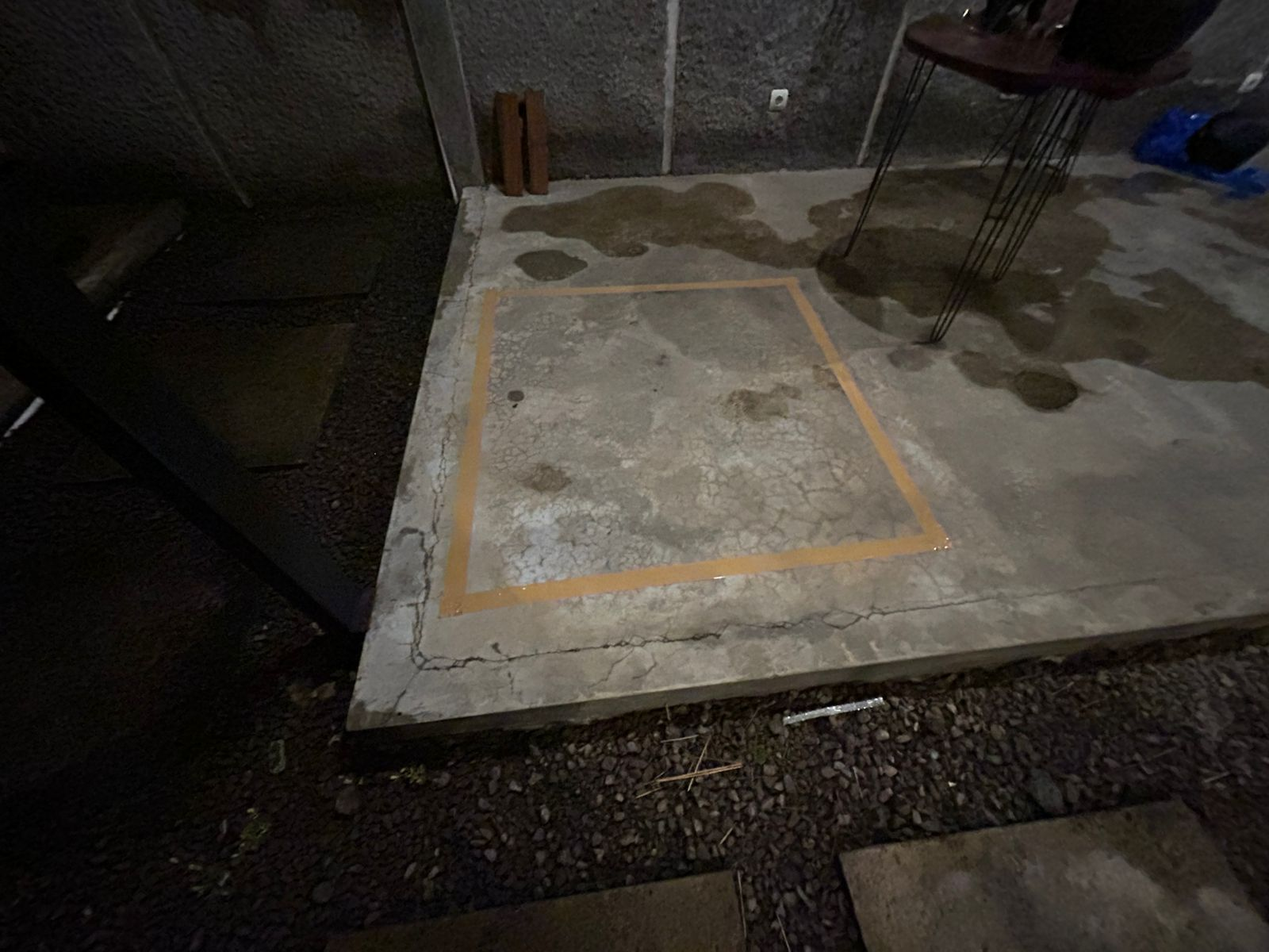floor marking: (439, 278, 949, 617)
